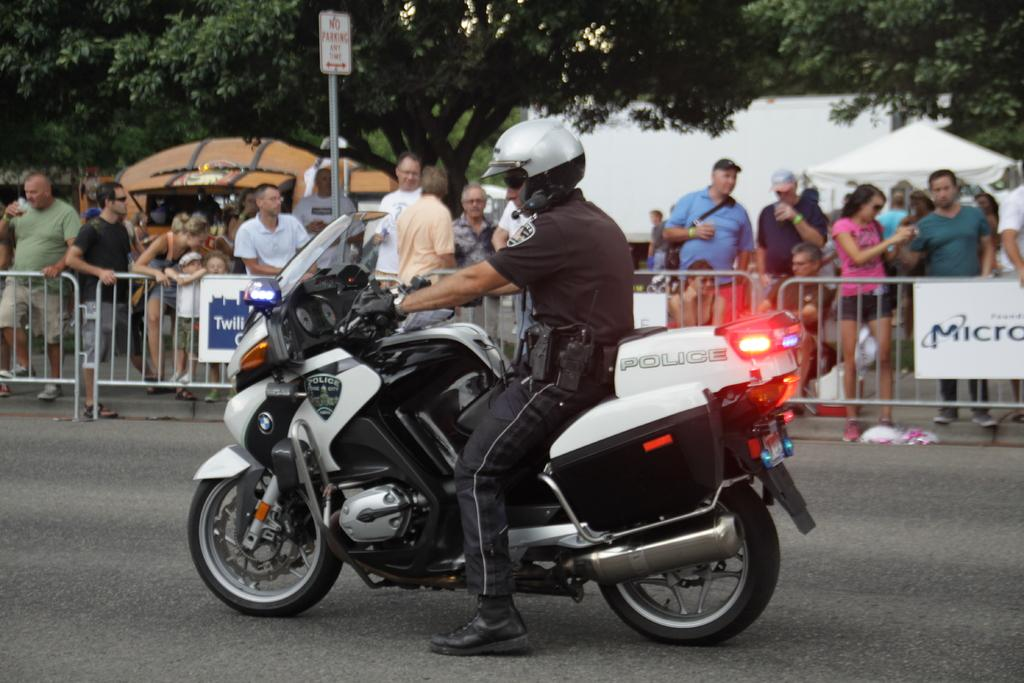helmet: (480, 118, 586, 217)
nohelmet: (850, 183, 888, 224), (789, 240, 823, 283), (927, 168, 959, 211), (178, 211, 211, 252), (710, 158, 742, 198), (95, 180, 129, 217), (420, 165, 451, 203), (394, 150, 422, 192), (23, 171, 53, 210), (769, 168, 798, 208), (253, 182, 285, 218), (460, 183, 488, 221)
